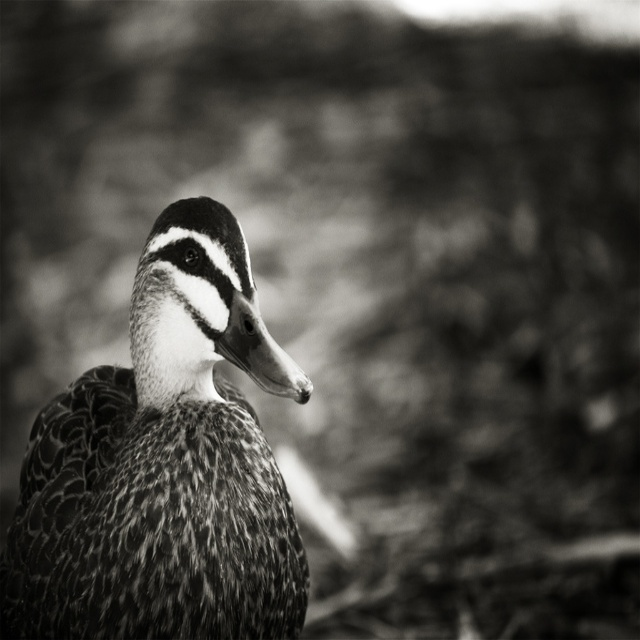Duck: (7, 193, 311, 639)
